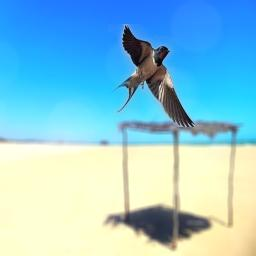Swallow: (108, 24, 195, 127)
